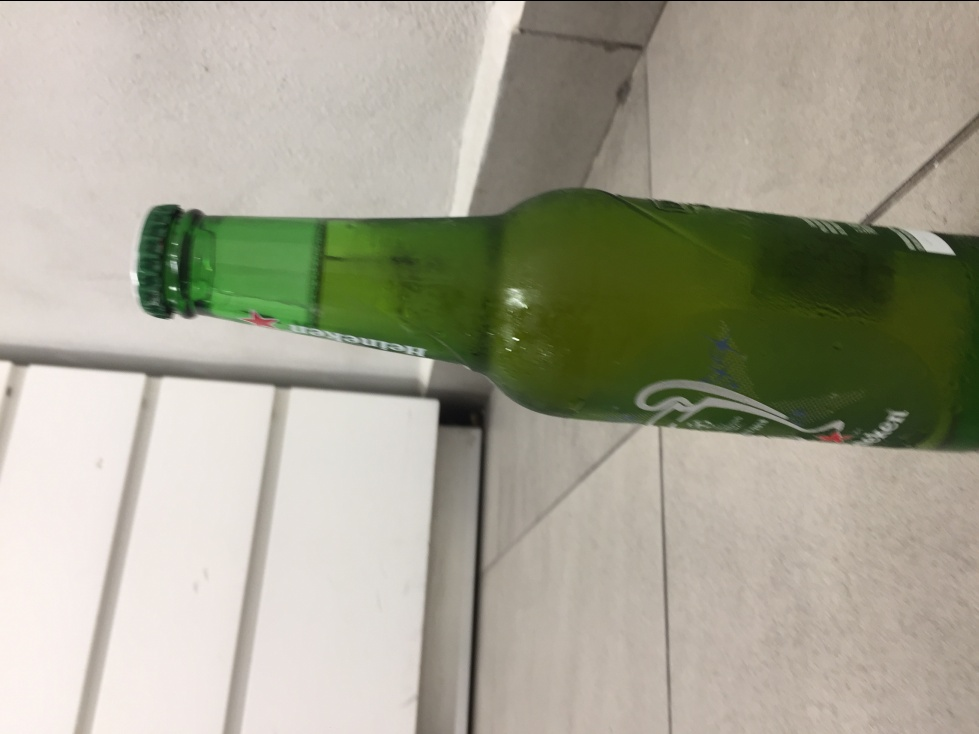heineken: (127, 185, 979, 456)
